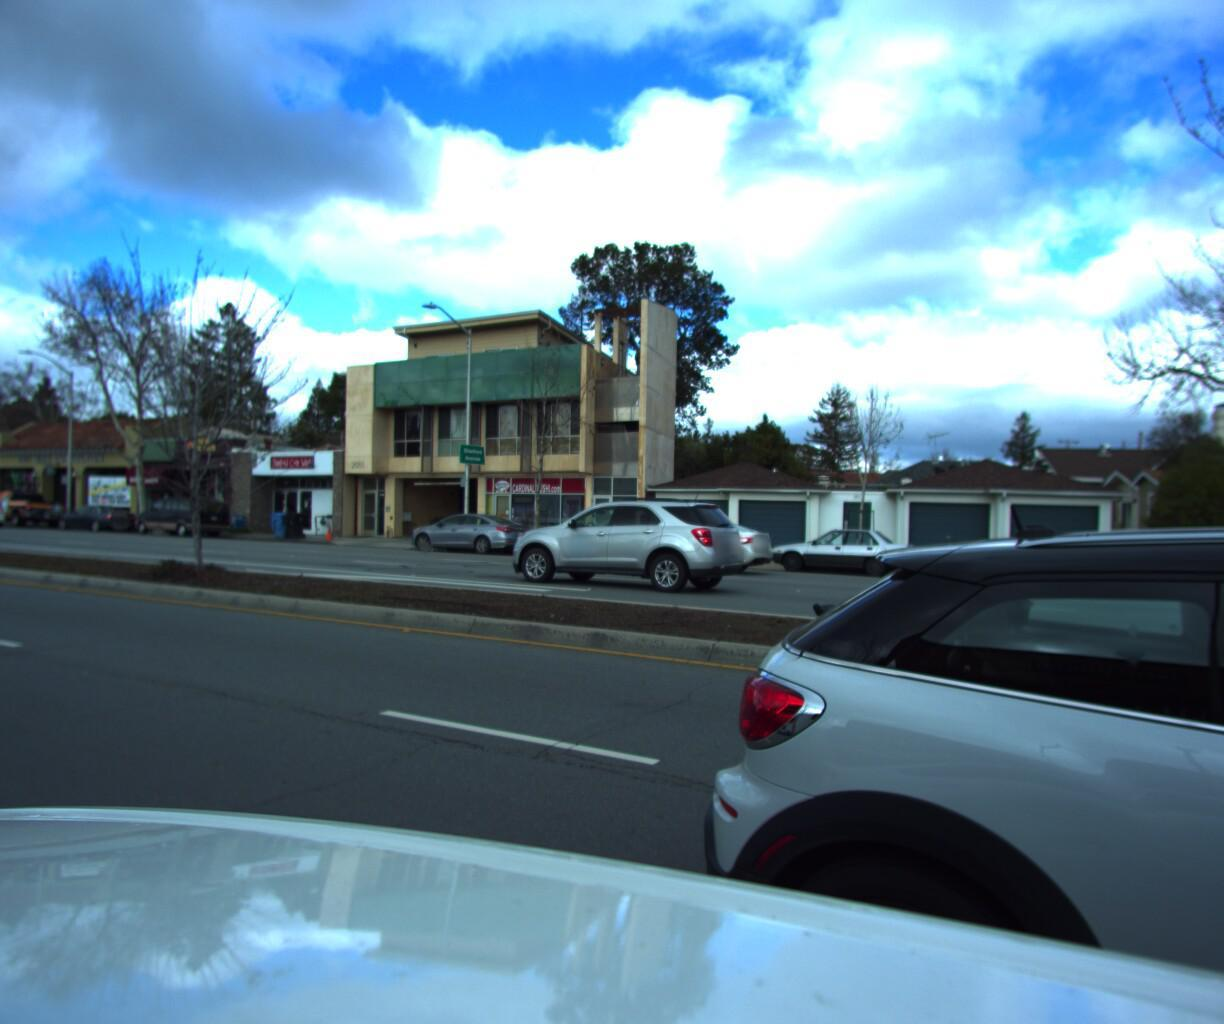car: (633, 488, 1224, 1024), (499, 495, 755, 594), (590, 509, 778, 573), (756, 520, 928, 577), (395, 506, 539, 554), (126, 491, 232, 534), (0, 466, 69, 525), (47, 498, 141, 529), (0, 490, 9, 526)
